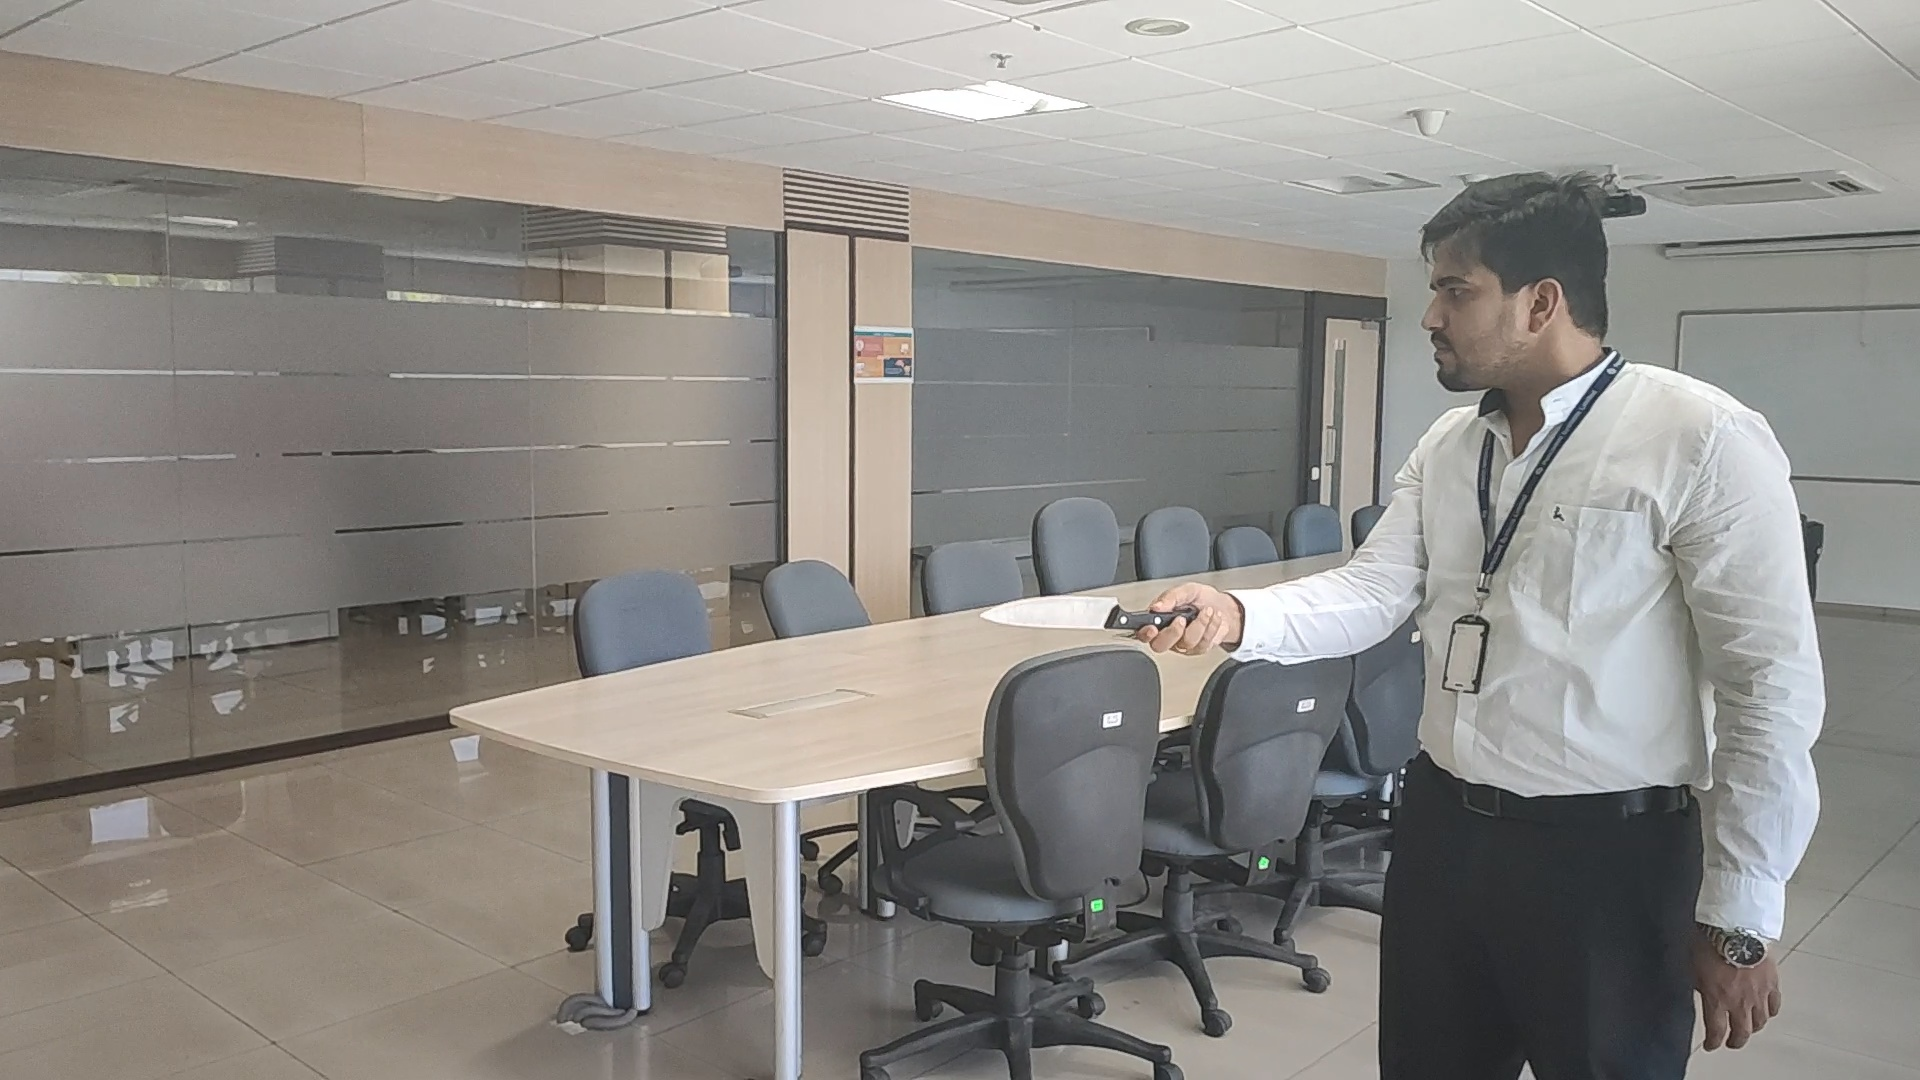knife: (982, 589, 1158, 632)
